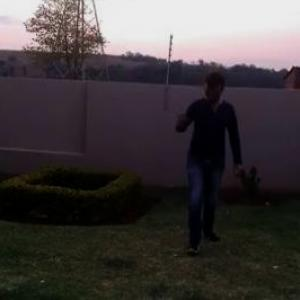takeoff-hand: (170, 100, 194, 132)
